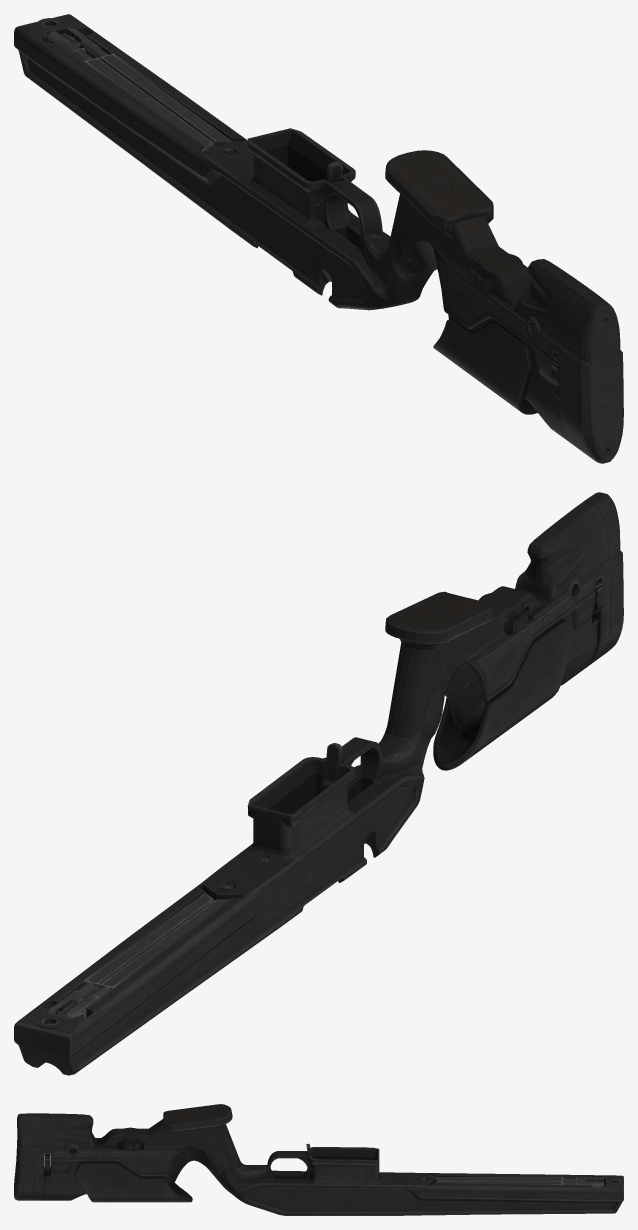
3 views of the same model, one above another, from view 1: azimuth 30°, elevation 25°; view 2: azimuth 150°, elevation 25°; view 3: azimuth 270°, elevation 25° (orthographic). The views are drawn at different scales.
Visible parts, largest first — view 1: TW_5cf13123d7f00c1085616a50_PZ_Import; view 2: TW_5cf13123d7f00c1085616a50_PZ_Import; view 3: TW_5cf13123d7f00c1085616a50_PZ_Import.
Part boxes in pixels (<box>): TW_5cf13123d7f00c1085616a50_PZ_Import: <box>14,14,623,463</box>; TW_5cf13123d7f00c1085616a50_PZ_Import: <box>14,492,623,1075</box>; TW_5cf13123d7f00c1085616a50_PZ_Import: <box>14,1104,623,1215</box>.
Bounding box in the file's own units: 0.0302 × 0.496 × 0.0901.
Materials: 1 (1 with a texture image).
